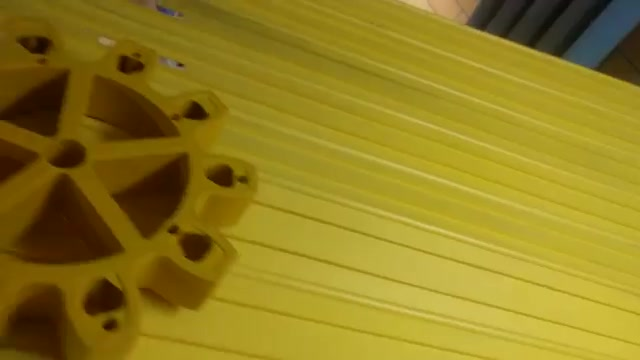gear: (2, 17, 273, 356)
